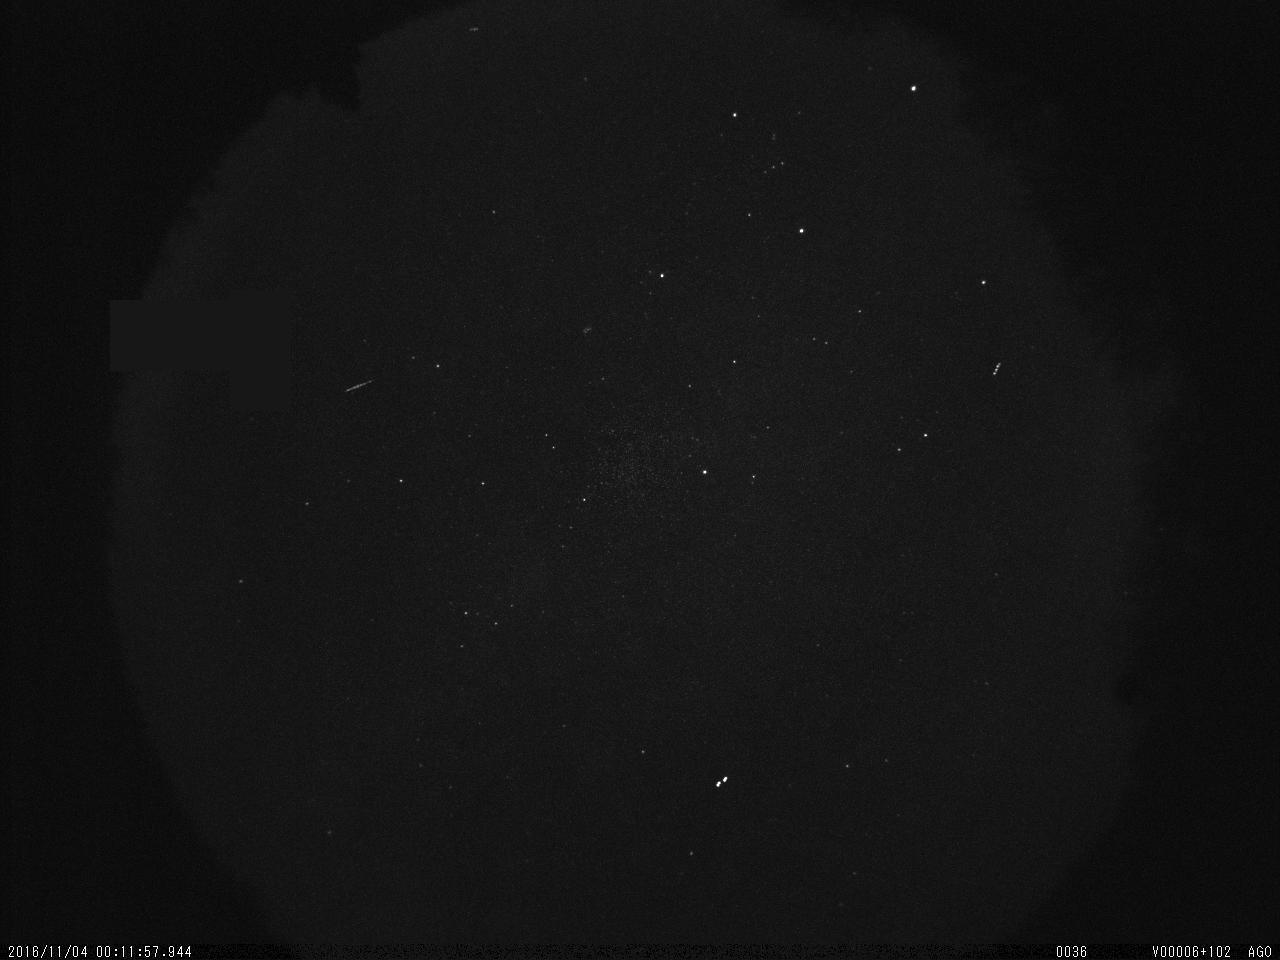meteor: (344, 376, 378, 404)
